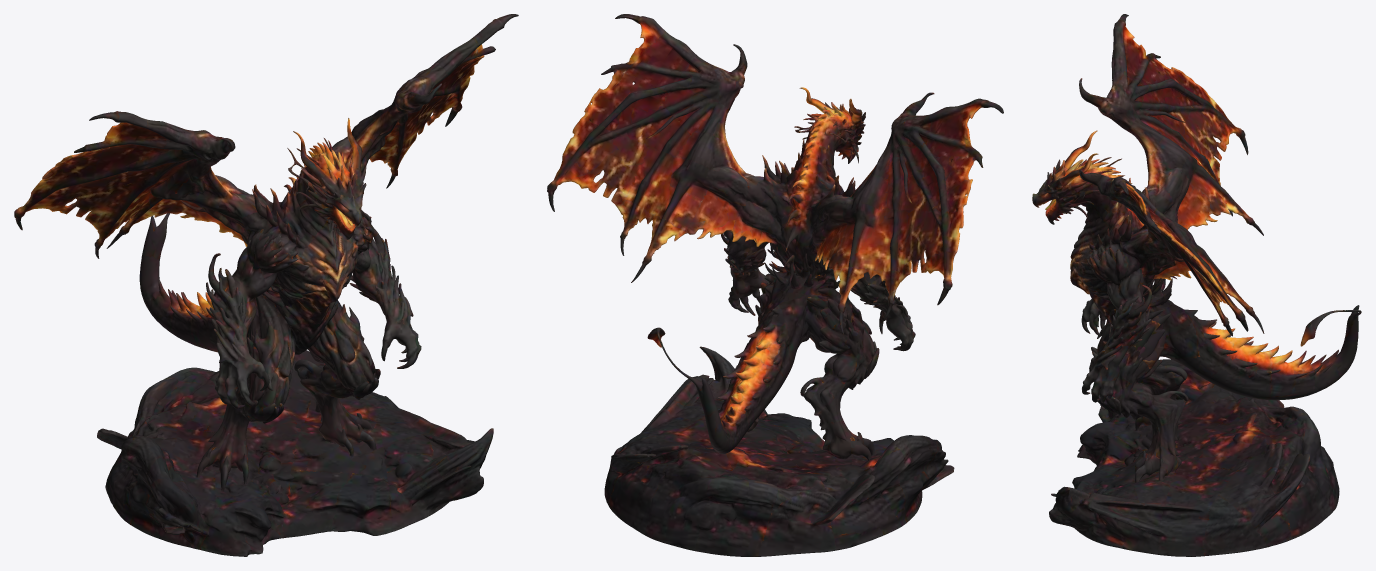
Rendered from mini_eg06.glb.
The picture shows the model from 3 angles, left to right: view 1: azimuth 30°, elevation 25°; view 2: azimuth 150°, elevation 25°; view 3: azimuth 270°, elevation 25°; orthographic projection. The views are drawn at different scales.
Size of the model in its own units: 1.9 by 1.84 by 1.42.
Materials: 1 (1 with a texture image).
